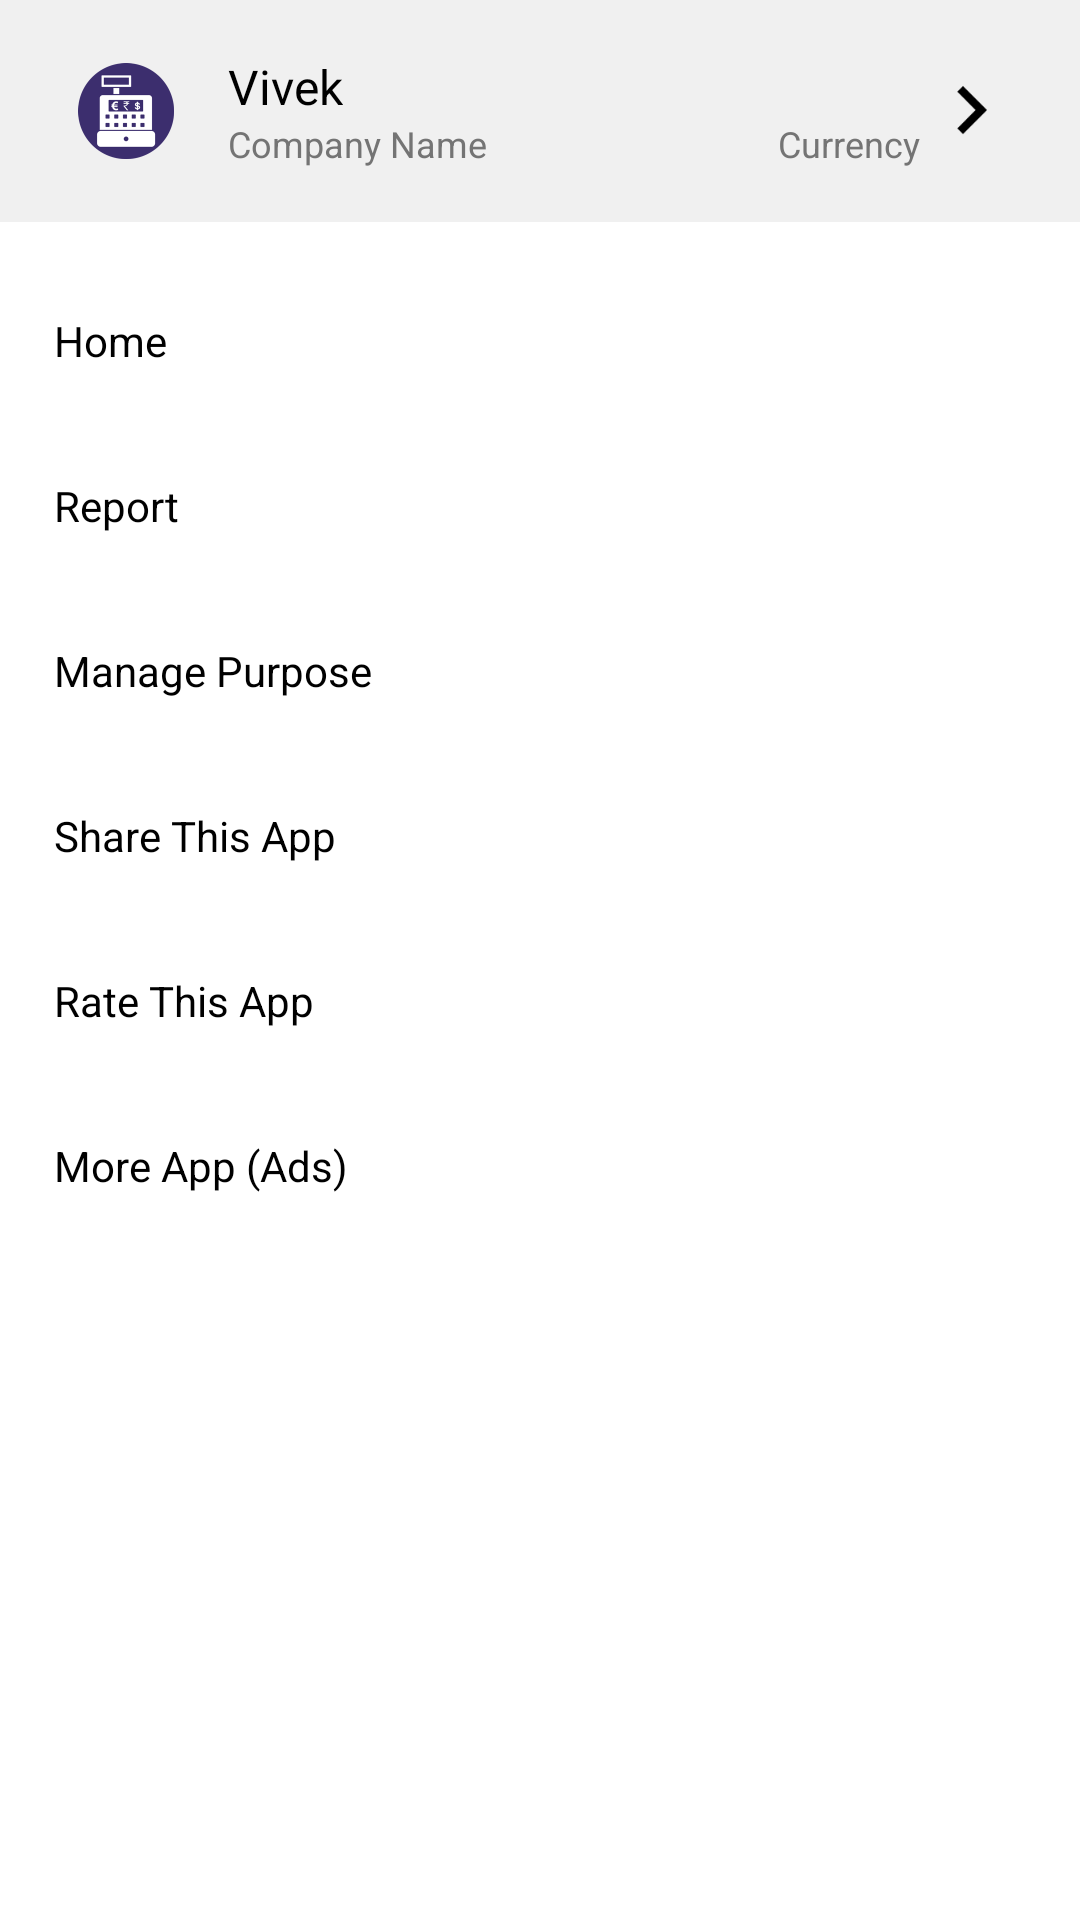

Icon bounding boxes for this 1080x1920 phone screenshot, format {"left": x1, "top": y1, "right": x2, "bottom": y2}:
appiconround: {"left": 78, "top": 63, "right": 174, "bottom": 159}
right arrow: {"left": 957, "top": 86, "right": 987, "bottom": 134}
